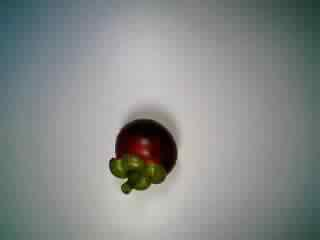mangosteen: (99, 115, 183, 196)
